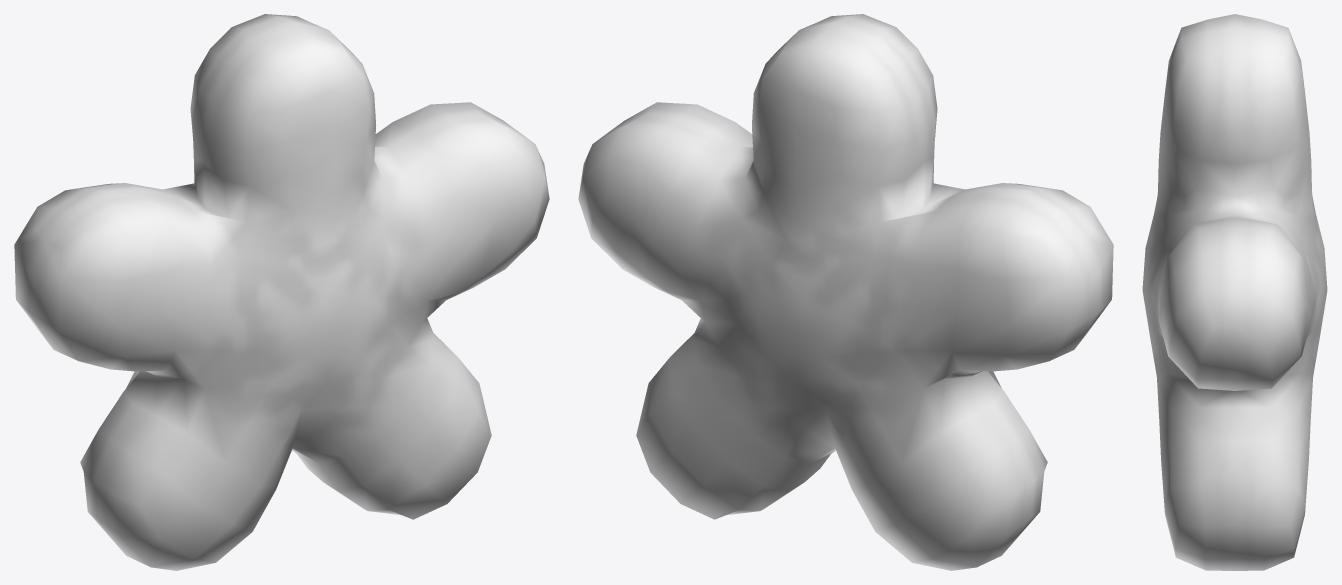
The model's file is LettersBalloon01_S6.FBX.
3 renders of one model, left to right at view 1: azimuth 30°, elevation 25°; view 2: azimuth 150°, elevation 25°; view 3: azimuth 270°, elevation 25°, orthographic. The views are drawn at different scales.
Parts seen in each view (by area): view 1: LettersBalloon01_S6; view 2: LettersBalloon01_S6; view 3: LettersBalloon01_S6.
Part boxes in pixels (bbox=[...]): LettersBalloon01_S6: bbox=[14, 14, 549, 570]; LettersBalloon01_S6: bbox=[578, 14, 1113, 570]; LettersBalloon01_S6: bbox=[1142, 14, 1327, 570].
Size of what is drawn, in the model's own units: 0.5062 by 0.4869 by 0.1665.
